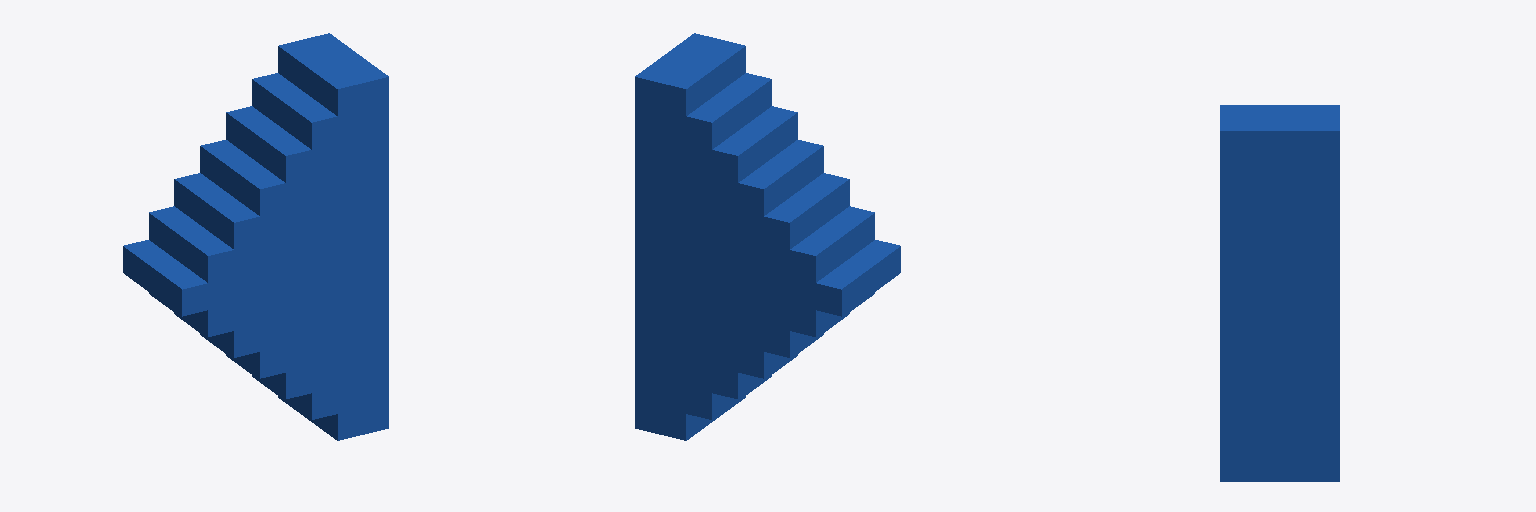
File: PlayButton.obj
3 renders of one model, left to right at view 1: azimuth 30°, elevation 25°; view 2: azimuth 150°, elevation 25°; view 3: azimuth 270°, elevation 25°, orthographic.
Size of the model in its own units: 8 by 13 by 4.